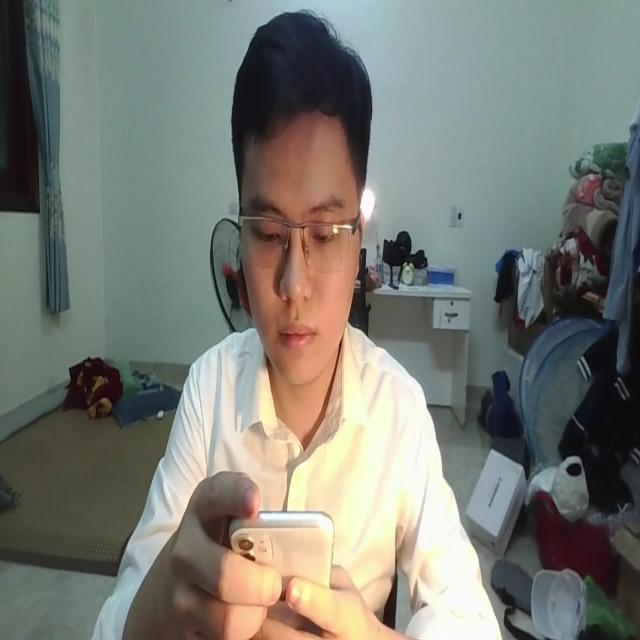phone: (229, 492, 337, 598)
student: (96, 8, 501, 640)
